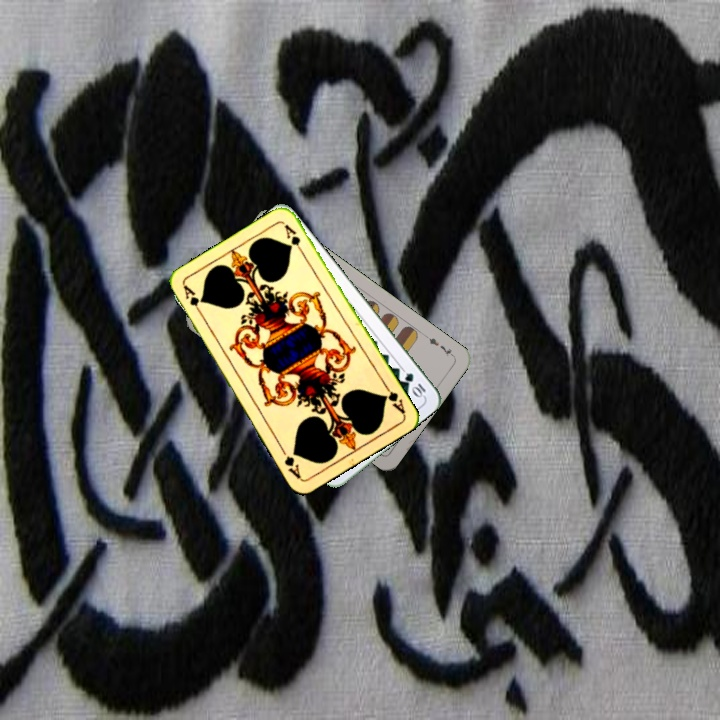E7: (422, 331, 457, 359)
G10: (400, 369, 428, 400)
GA: (379, 380, 408, 416), (179, 281, 206, 319)
